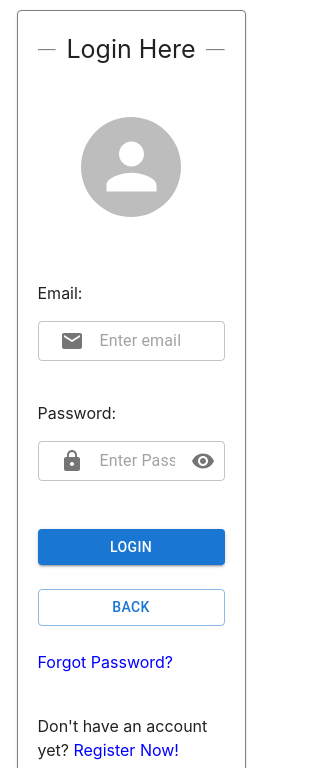
Test: LoginStudentStaff component (Front-end Testing) › displays an error message for an invalid email format
The image size is (320, 768).
Type "invalid-email" into the field with placeholder "Enter email" at (162, 340), box [100,320,224,360]
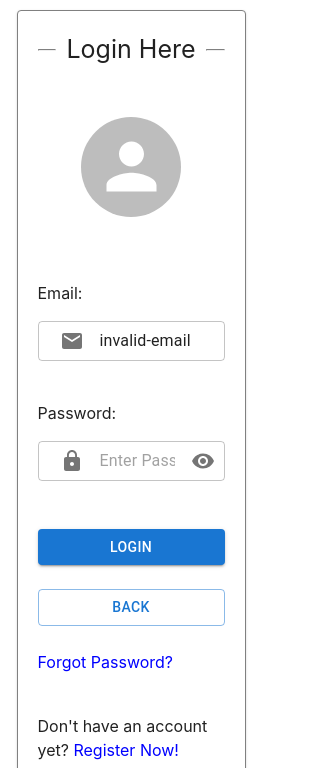
Click the button "Login" at (131, 547), box [38,528,224,565]
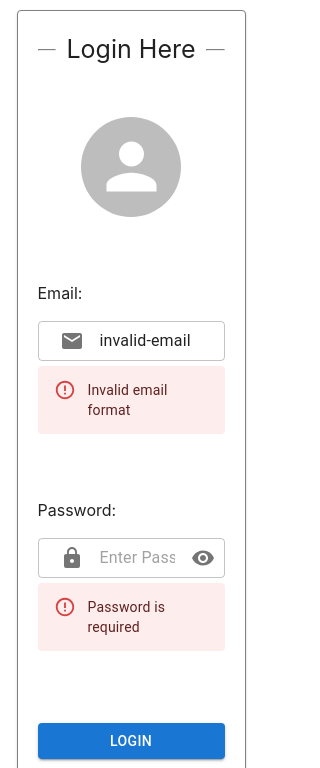
Now the text "Invalid email format" is shown, box [88,382,168,418]
